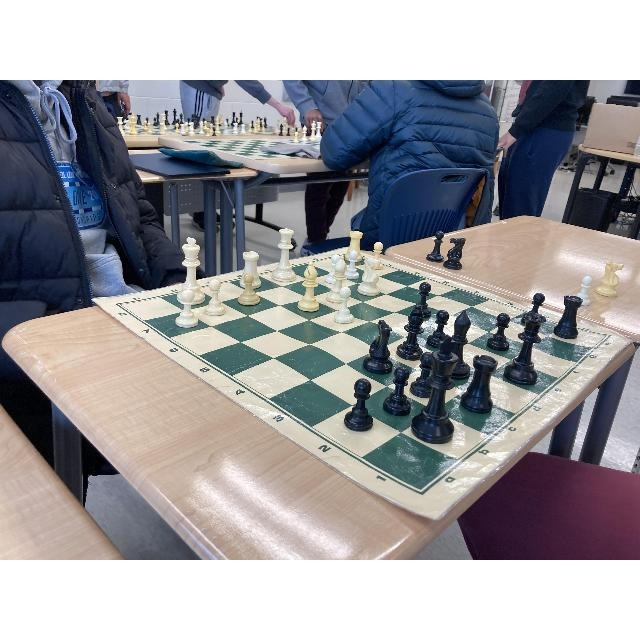black-bishop: (398, 303, 426, 359), (449, 310, 469, 382)
black-king: (409, 335, 462, 446)
black-knight: (364, 319, 394, 375)
black-pawn: (343, 378, 376, 431), (381, 365, 411, 414), (412, 350, 438, 396), (485, 312, 512, 352), (519, 293, 547, 327), (428, 308, 450, 346), (412, 282, 432, 320)
black-rook: (463, 354, 498, 415)
white-bishop: (300, 263, 320, 311), (330, 255, 348, 302)
white-king: (178, 239, 203, 303)
white-knight: (358, 256, 382, 294)
white-pawn: (176, 289, 197, 328), (204, 278, 226, 315), (238, 274, 260, 307), (336, 287, 353, 323), (369, 239, 385, 270), (327, 251, 342, 282), (346, 251, 358, 279)
white-queen: (276, 228, 296, 280)
white-rook: (240, 249, 261, 291), (347, 230, 362, 260)
